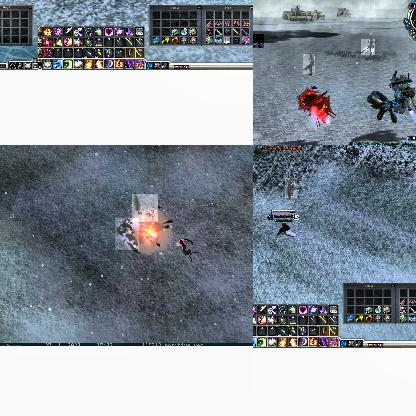caliana: (115, 218, 139, 250), (132, 194, 158, 222), (303, 54, 315, 74), (285, 178, 297, 198), (361, 39, 375, 55), (253, 34, 264, 48)
